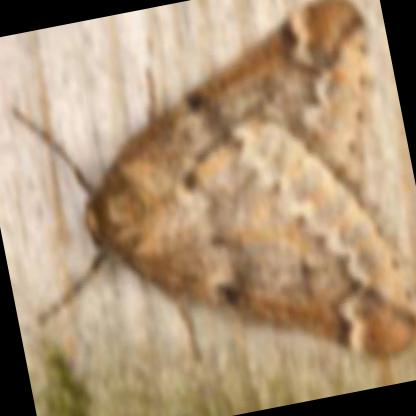Leaf Webber: (81, 0, 416, 363)
